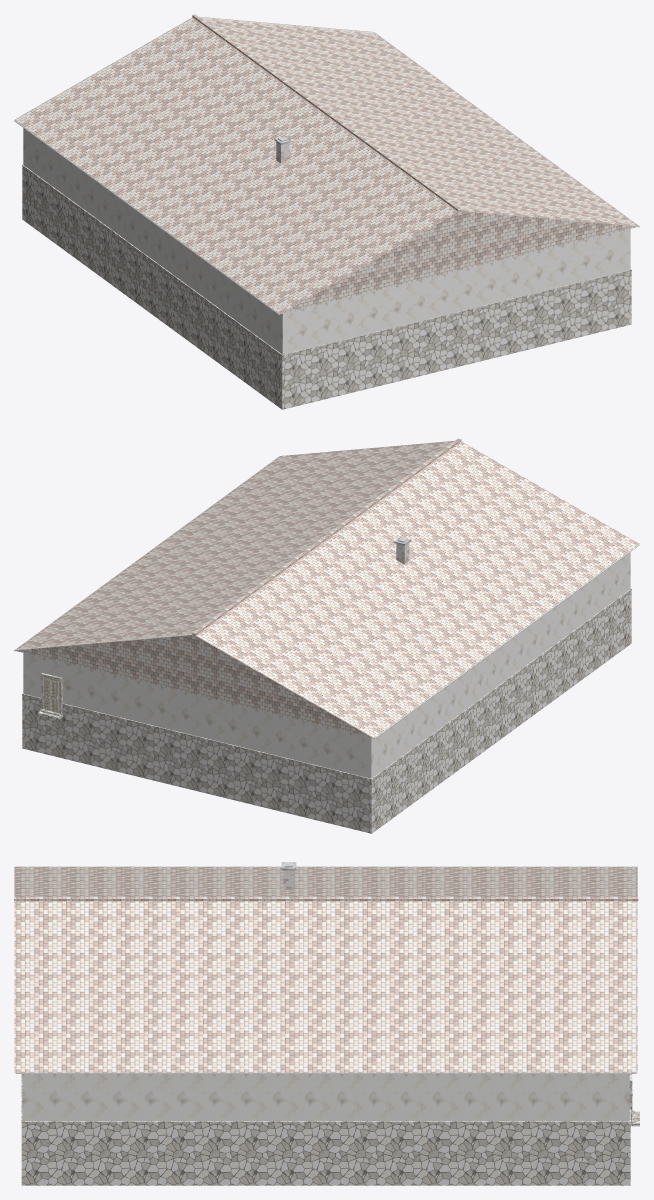
3 renders of one model, top to bottom at view 1: azimuth 30°, elevation 25°; view 2: azimuth 150°, elevation 25°; view 3: azimuth 270°, elevation 25°, orthographic. The views are drawn at different scales.
Parts seen in each view (by area): view 1: b1085400575; view 2: b1085400575; view 3: b1085400575.
Part boxes in pixels (x1,y1,x2,y2): b1085400575: (14, 14, 639, 409); b1085400575: (14, 438, 639, 833); b1085400575: (14, 862, 639, 1185).
Size of the model in its own units: 21.44 by 9.08 by 27.46.
14 materials, 14 textured.
